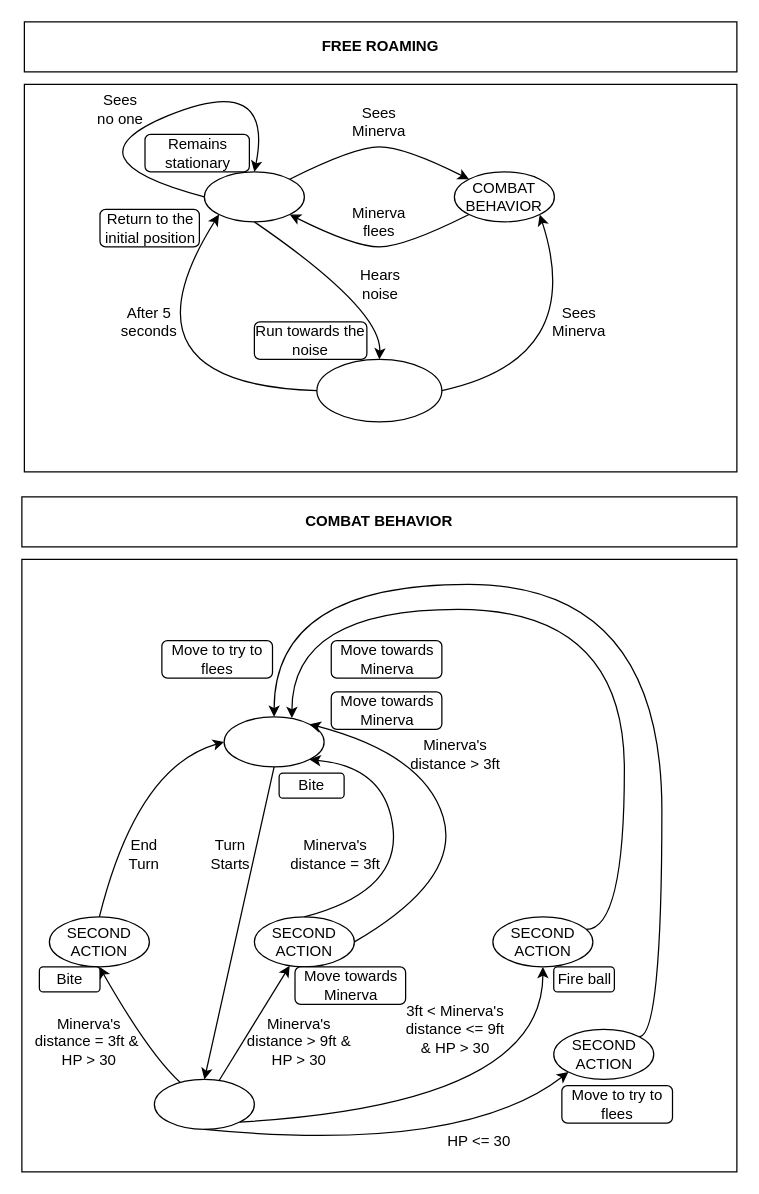
The diagram is 759 pixels wide and 1194 high, and some of its shapes have lost their labels. The shapes that lost their labels are listed below. From the top down, each one's centre as x and y in pixels, then its label:
the point at 253,196: IDLE
the point at 379,390: AGGRESSIVE
the point at 273,741: WAIT TURN
the point at 203,1103: FIRST ACTION
